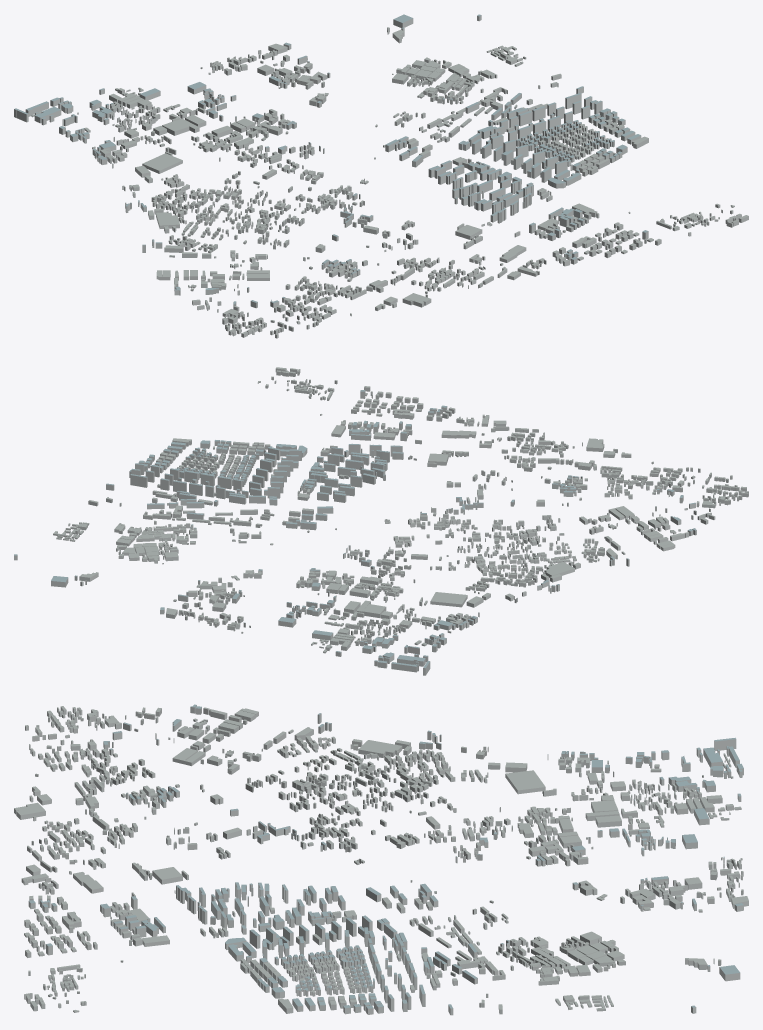
The model's file is far.glb.
3 renders of one model, top to bottom at view 1: azimuth 30°, elevation 25°; view 2: azimuth 150°, elevation 25°; view 3: azimuth 270°, elevation 25°, orthographic. The views are drawn at different scales.
Bounding box in the file's own units: 2110 × 41.6 × 2150.
